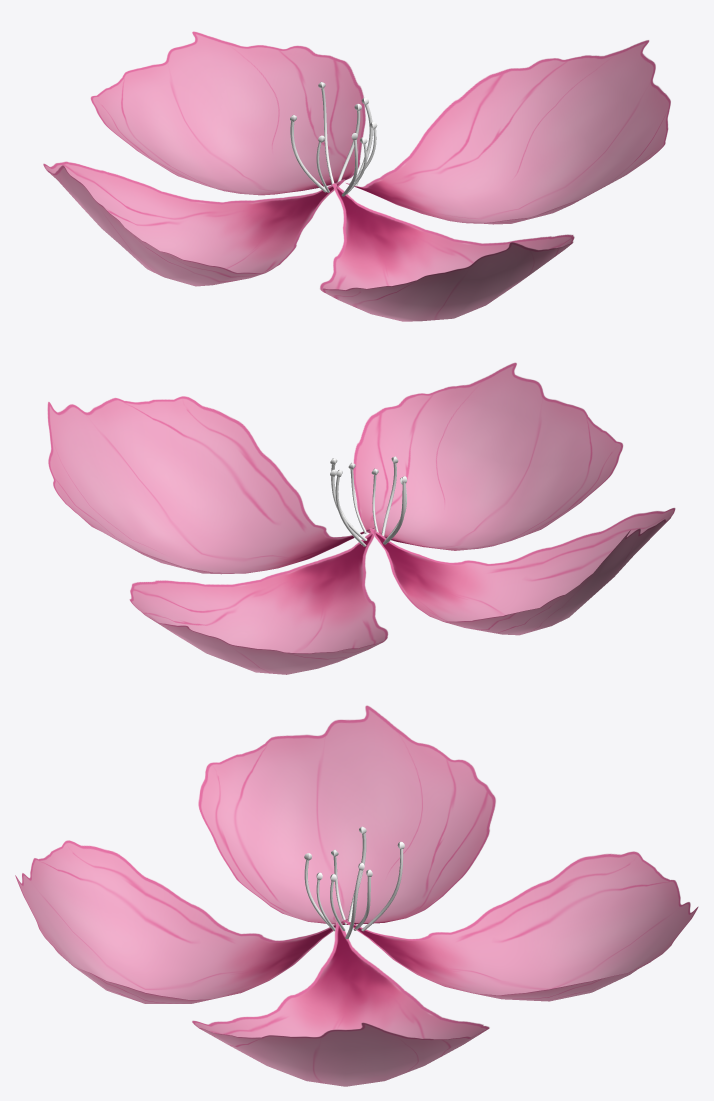
The model's file is Sakura.glb.
3 renders of one model, top to bottom at view 1: azimuth 30°, elevation 25°; view 2: azimuth 150°, elevation 25°; view 3: azimuth 270°, elevation 25°, orthographic. The views are drawn at different scales.
Visible parts, largest first — view 1: SakuraBlossom, seed; view 2: SakuraBlossom, seed; view 3: SakuraBlossom, seed.
Boxes of the visible parts, <box> form: SakuraBlossom: <box>43,31,670,321</box>; seed: <box>290,82,377,196</box>; SakuraBlossom: <box>47,362,675,674</box>; seed: <box>330,456,407,546</box>; SakuraBlossom: <box>15,705,698,1086</box>; seed: <box>304,826,404,938</box>.
Size of the model in its own units: 1.59 by 0.3795 by 1.52.
Materials: 3 (1 with a texture image).
